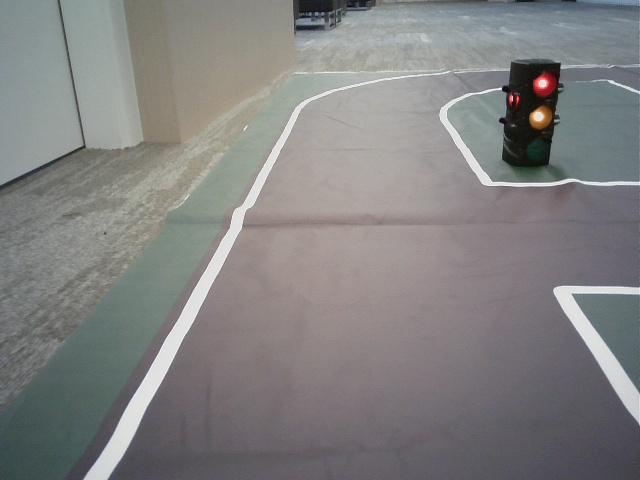red: (523, 66, 551, 164)
